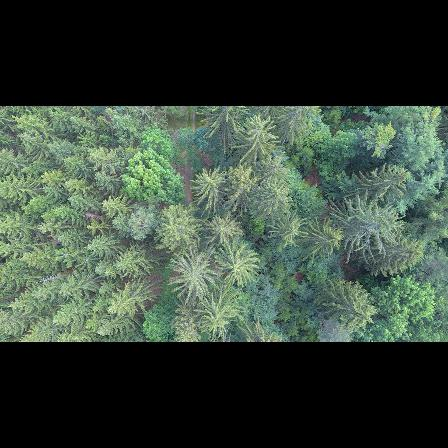Sick: (55, 245, 78, 265)
